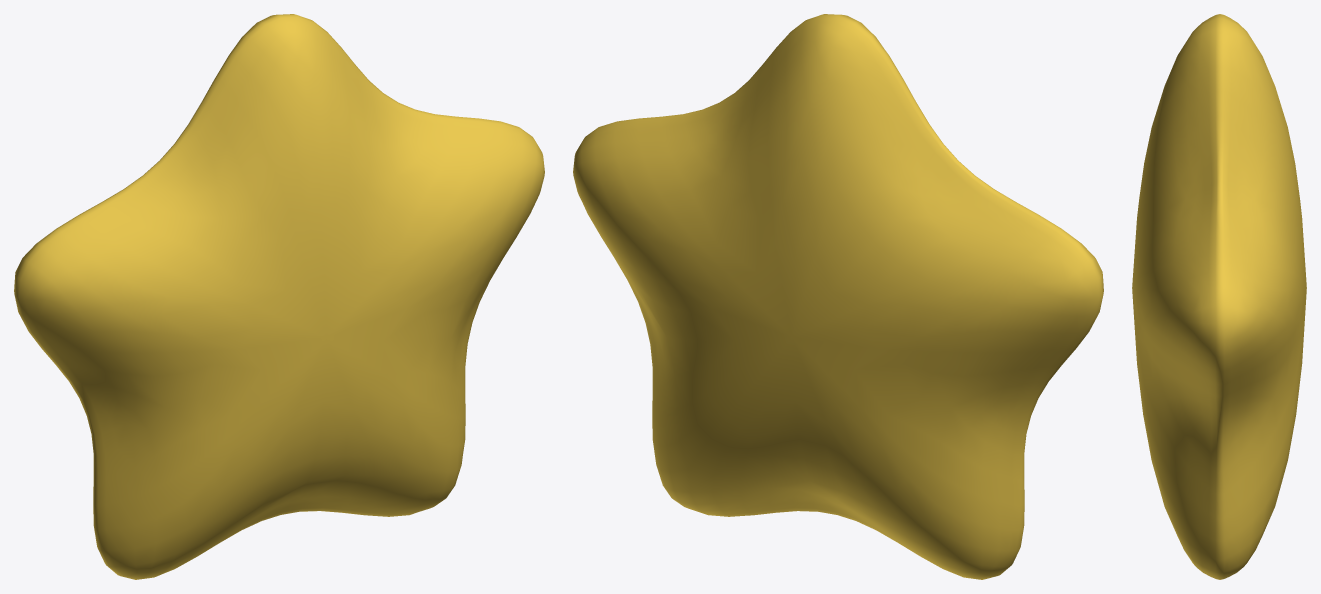
File: SoftStar.fbx
3 renders of one model, left to right at view 1: azimuth 30°, elevation 25°; view 2: azimuth 150°, elevation 25°; view 3: azimuth 270°, elevation 25°, orthographic. The views are drawn at different scales.
Visible parts, largest first — view 1: Circle; view 2: Circle; view 3: Circle.
Part boxes in pixels (x1,y1,x2,y2): Circle: [14, 14, 544, 579]; Circle: [573, 14, 1103, 579]; Circle: [1132, 14, 1306, 579].
Bounding box in the file's own units: 164 × 158 × 50.25.
